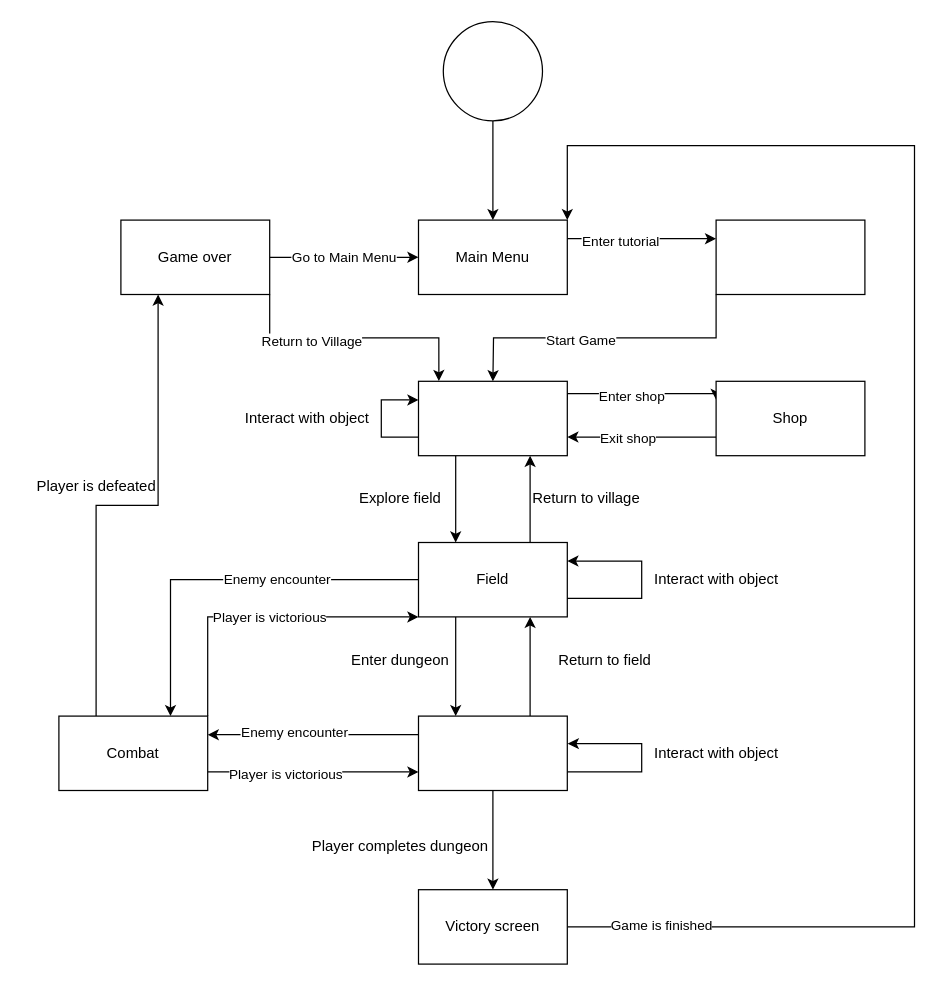
Image size: 946x986. Some labels were removed from this diagram. The shapes that lost their labels are listed below. From the top down, each one's centre as x and y in pixels, then its label:
At [790,256]: "Tutorial".
At [492,418]: "Village".
At [492,752]: "Dungeon".
